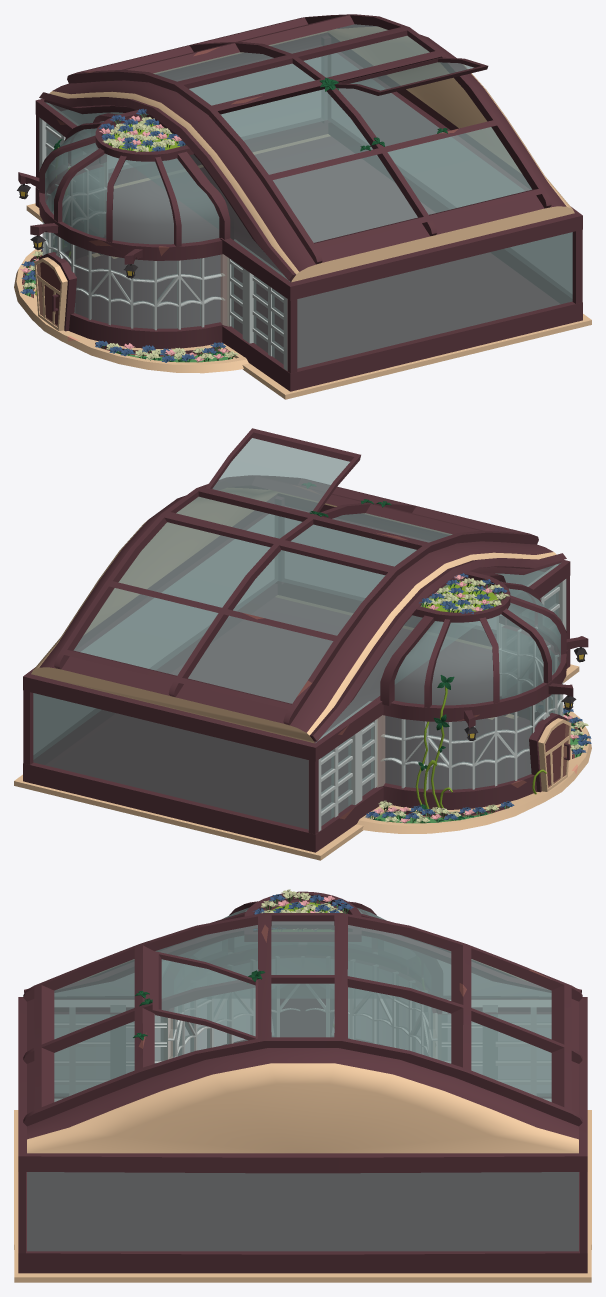
Rendered from estufa.fbx.
3 renders of one model, top to bottom at view 1: azimuth 30°, elevation 25°; view 2: azimuth 150°, elevation 25°; view 3: azimuth 270°, elevation 25°, orthographic. The views are drawn at different scales.
Visible parts, largest first — view 1: Plane.080, Cube.008; view 2: Plane.080, Cube.008; view 3: Plane.080.
Part boxes in pixels (left/top/right/bottom): Plane.080: left=14, top=14, right=591, bottom=399; Cube.008: left=34, top=257, right=67, bottom=330; Plane.080: left=14, top=428, right=591, bottom=860; Cube.008: left=538, top=718, right=571, bottom=791; Plane.080: left=14, top=889, right=591, bottom=1282.
Bounding box in the file's own units: 17.18 × 8.54 × 17.86.
